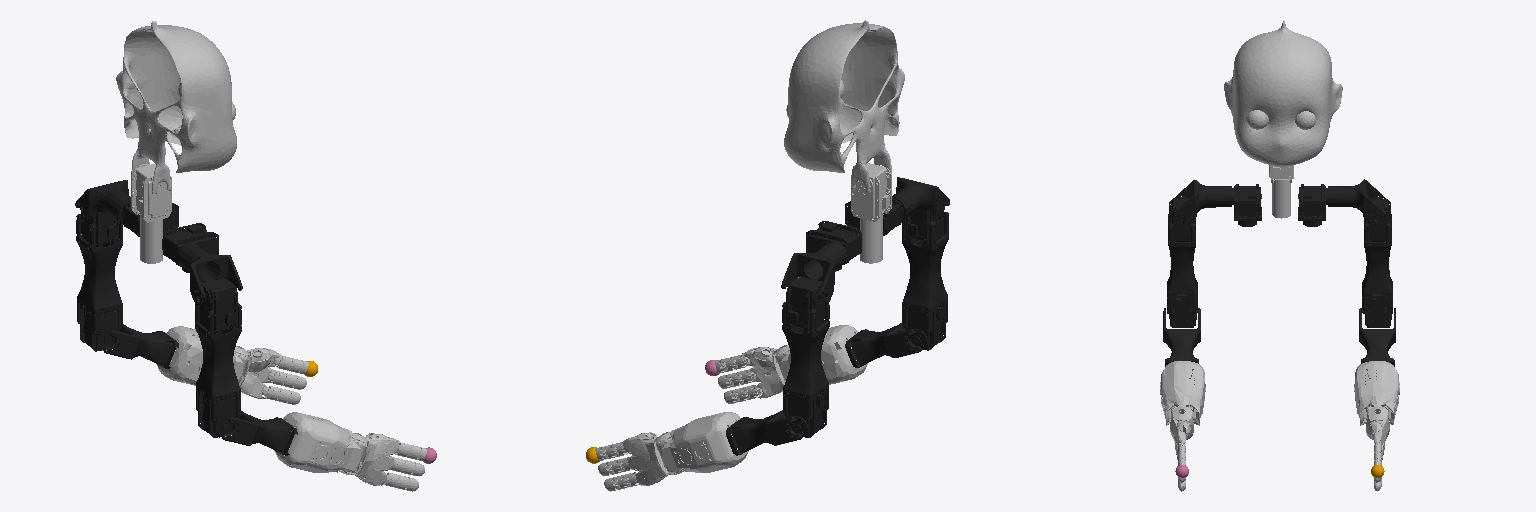
URDF robot description (nico_upper_rh6d):
<?xml version="1.0" ?>
<!-- =================================================================================== -->
<!-- |    This document was manually created   and the meshes resized and repositioned | -->
<!-- |    EDITING THIS FILE BY HAND IS NOT RECOMMENDED                                 | -->
<!-- =================================================================================== -->
<!--
  Copyright (c) 2023, [author]
  All rights reserved.

  This work is licensed under the Creative Commons Attribution-NonCommercial-NoDerivs 3.0 Unported License.
  To view a copy of this license, visit http://creativecommons.org/licenses/by-nc-nd/3.0/ or send a letter to
  Creative Commons, 444 Castro Street, Suite 900, Mountain View, California, 94041, USA.
-->
<robot name="nico_upper_rh6d">
	<link name="world" />
	<link name="torso">
		<visual>
			<geometry>
				<mesh filename="mesh/torso.obj"/>
			</geometry>
			<origin rpy="0 0 0" xyz="0.0 0.0 0.0"/>
			<material name="torso_color">
				<color rgba="0.270588 0.270588 0.270588 1"/>
			</material>
		</visual>
	</link>
	<joint name="world_to_base_link" type="fixed">
    	<parent link="world"/>
    	<child link="torso"/>
  	</joint>
    <link name="neck">
		<visual>
			<geometry>
				<mesh filename="mesh/neck.obj"/>
			</geometry>
			<origin rpy="0 0 0" xyz="0.0 0.0 0.0"/>
			<material name="neck_color">
				<color rgba="0.74902 0.74902 0.74902 1"/>
			</material>
		</visual>
		<collision>
			<geometry>
				<mesh filename="mesh/neck.stl"/>
			</geometry>
			<origin rpy="0 0 0" xyz="0.0 0.0 0.0"/>
		</collision>
		<inertial>
			<mass value="0.090439"/>
			<inertia ixx="0.00006" ixy="-0" ixz="-0" iyy="0.000056" iyz="-0.000001" izz="0.000019"/>
			<origin rpy="0 0 0" xyz="0 0.000266 0.050352"/>
		</inertial>
	</link>
	<joint name="head_z_rjoint" type="revolute">
		<parent link="torso"/>
		<child link="neck"/>
		<origin rpy="0 0 0" xyz="-0.025 0.005 0.23"/>
		<axis xyz="0 0 1"/>
		<limit effort="30" lower="-1.5708" upper="1.5708" velocity="1"/>
	</joint>
	<link name="head">
		<visual>
			<geometry>
				<mesh filename="mesh/head.obj"/>
			</geometry>
			<origin rpy="0 0 0" xyz="0 0 0"/>
			<material name="head_color">
				<color rgba="0.74902 0.74902 0.74902 1"/>
			</material>
		</visual>
		<collision>
			<geometry>
				<mesh filename="mesh/head.stl"/>
			</geometry>
			<origin rpy="0 0 0" xyz="0 0 0"/>
		</collision>
		<inertial>
			<mass value="0.294137"/>
			<inertia ixx="0.001424" ixy="-0" ixz="0.000083" iyy="0.00159" iyz="-0.000002" izz="0.001485"/>
			<origin rpy="0 0 0" xyz="0.01525 -0.023771 0.09423"/>
		</inertial>
	</link>
	<joint name="head_y_rjoint" type="revolute">
		<parent link="neck"/>
		<child link="head"/>
		<origin rpy="0 0 0" xyz="0 0.0 0.105"/>
		<axis xyz="0 1 0"/>
		<limit effort="30" lower="-0.8726" upper="0.4363" velocity="1"/>
	</joint>
	<!-- ====EYES=== -->
	<link name="eyes">

	</link>
	<joint name="eyes_fjoint" type="fixed">
		<parent link="head"/>
		<child link="eyes"/>
		<origin rpy="0 0 0" xyz="0 0.0 0.105"/>
	</joint>
    <!-- ====RIGHT ARM=== -->
	<link name="right_shoulder">
		<visual>
			<geometry>
				<mesh filename="mesh/right_shoulder.obj"/>
			</geometry>
			<origin rpy="0 0 0" xyz="0 0 0"/>
			<material name="right_shoulder_color">
				<color rgba="0.176471 0.176471 0.176471 1"/>
			</material>
		</visual>
		<collision>
			<geometry>
				<mesh filename="mesh/right_shoulder.stl"/>
			</geometry>
			<origin rpy="0 0 0" xyz="0 0 0"/>
		</collision>
		<inertial>
			<mass value="0.084038"/>
			<inertia ixx="0.000026" ixy="-0.000001" ixz="-0.000002" iyy="0.000034" iyz="-0" izz="0.000033"/>
			<origin rpy="0 0 0" xyz="0.005637 0.000876 0.033153"/>
		</inertial>
	</link>
	<joint name="r_shoulder_z_rjoint" type="revolute">
		<parent link="torso"/>
		<child link="right_shoulder"/>
		<origin rpy="0 0 0" xyz="0.005 -0.045 0.23"/>
		<axis xyz="0 0 1"/>
		<limit effort="30" lower="-0.4363" upper="1.3963" velocity="1"/>
	</joint>
	<link name="right_collarbone">
		<visual>
			<geometry>
				<mesh filename="mesh/right_collar.obj"/>
			</geometry>
			<origin rpy="0 0 0" xyz="0 0 0"/>
			<material name="right_collarbone_color">
				<color rgba="0.176471 0.176471 0.176471 1"/>
			</material>
		</visual>
		<collision>
			<geometry>
				<mesh filename="mesh/right_collar.stl"/>
			</geometry>
			<origin rpy="0 0 0" xyz="0 0 0"/>
		</collision>
		<inertial>
			<mass value="0.024811"/>
			<inertia ixx="0.000014" ixy="-0" ixz="0" iyy="0.000011" iyz="-0.000001" izz="0.000019"/>
			<origin rpy="0 0 0" xyz="-0 -0.041345 -0.002364"/>
		</inertial>
	</link>
	<joint name="r_shoulder_y_rjoint" type="revolute">
		<parent link="right_shoulder"/>
		<child link="right_collarbone"/>
		<origin rpy="0 0 0" xyz="-0.021 -0.023 0.033"/>
		<axis xyz="0 -1 0"/>
		<limit effort="30" lower="-0.5236" upper="3.1416" velocity="1"/>
	</joint>
	<link name="right_upper_arm">
		<visual>
			<geometry>
				<mesh filename="mesh/right_upper_arm.obj"/>
			</geometry>
			<origin rpy="0 0 0" xyz="0 0 0"/>
			<material name="right_upper_arm_color">
				<color rgba="0.176471 0.176471 0.176471 1"/>
			</material>
		</visual>
		<collision>
			<geometry>
				<mesh filename="mesh/right_upper_arm.stl"/>
			</geometry>
			<origin rpy="0 0 0" xyz="0 0 0"/>
		</collision>
		<inertial>
			<mass value="0.189729"/>
			<inertia ixx="0.000851" ixy="0" ixz="0" iyy="0.000851" iyz="-0.000005" izz="0.000048"/>
			<origin rpy="0 0 0" xyz="-0.02306 -0.000321 -0.0866"/>
		</inertial>
	</link>
	<joint name="r_upperarm_x_rjoint" type="revolute">
		<parent link="right_collarbone"/>
		<child link="right_upper_arm"/>
		<origin rpy="0 0 0" xyz="0.00 -0.073 -0.023"/>
		<axis xyz="-1 0 0"/>
		<limit effort="30" lower="0" upper="1.2217" velocity="1"/>
	</joint>
	<link name="right_lower_arm">
		<visual>
			<geometry>
				<mesh filename="mesh/right_lower_arm.obj"/>
			</geometry>
			<origin rpy="0 0 0" xyz="0 0 0"/>
			<material name="right_lower_arm_color">
				<color rgba="0.176471 0.176471 0.176471 1"/>
			</material>
		</visual>
		<collision>
			<geometry>
				<mesh filename="mesh/right_lower_arm.stl"/>
			</geometry>
			<origin rpy="0 0 0" xyz="0 0 0"/>
		</collision>
		<inertial>
			<mass value="0.076793"/>
			<inertia ixx="0.000104" ixy="-0" ixz="-0" iyy="0.000095" iyz="-0.000002" izz="0.000021"/>
			<origin rpy="0 0 0" xyz="0 0.022485 -0.081055"/>
		</inertial>
	</link>
	<joint name="r_elbow_y_rjoint" type="revolute">
		<parent link="right_upper_arm"/>
		<child link="right_lower_arm"/>
		<origin rpy="0 3.14 0" xyz="0.0 0 -0.17"/>
		<axis xyz="0 1 0"/>
		<limit effort="30" lower="0.8726" upper="3.1416" velocity="1"/>
	</joint>
	<link name="right_wrist">
		<visual>
			<geometry>
				<mesh filename="mesh/right_wrist.obj"/>
			</geometry>
			<origin rpy="0 0 0" xyz="0 0 0"/>
			<material name="right_wrist_color">
				<color rgba="0.74902 0.74902 0.74902 1"/>
			</material>
		</visual>
		<collision>
			<geometry>
				<mesh filename="mesh/right_wrist.stl"/>
			</geometry>
			<origin rpy="0 0 0" xyz="0 0 0"/>
		</collision>
		<inertial>
			<mass value="0.028397"/>
			<inertia ixx="0.000043" ixy="-0" ixz="0.000004" iyy="0.000058" iyz="-0.000007" izz="0.000029"/>
			<origin rpy="0 0 0" xyz="0.000031 -0.011056 -0.0675"/>
		</inertial>
	</link>
	<joint name="r_wrist_z_rjoint" type="revolute">
		<parent link="right_lower_arm"/>
		<child link="right_wrist"/>
		<origin rpy="0 0 1.57" xyz="0 0 -0.105"/>
		<axis xyz="0 0 1"/>
		<limit effort="30" lower="-1.571" upper="1.571" velocity="1"/>
	</joint>
	<link name="right_palm"> <!--gripper-->
		<visual>
			<geometry>
				<mesh filename="mesh/right_palm.obj"/>
			</geometry>
			<origin rpy="0 0 0" xyz="0 0 0"/>
			<material name="gripper_color">
				<color rgba="0.74902 0.74902 0.74902 1"/>
			</material>
		</visual>
		<collision>
			<geometry>
				<mesh filename="mesh/right_palm.stl"/>
			</geometry>
			<origin rpy="0 0 0" xyz="0 0 0"/>
		</collision>
		<inertial>
			<mass value="0.005332"/>
			<inertia ixx="0.000015" ixy="0.000001" ixz="-0.000004" iyy="0.000017" iyz="0.000004" izz="0.000006"/>
			<origin rpy="0 0 0" xyz="-0.029511 0.002253 -0.023968"/>
		</inertial>
	</link>
	<joint name="r_wrist_x_rjoint" type="revolute">
		<parent link="right_wrist"/>
		<child link="right_palm"/>
		<origin rpy="0 0 0" xyz="0 0 -0.10"/>
		<axis xyz="0 1 0"/>
		<limit effort="30" lower="-.78" upper="0.78" velocity="1"/>
	</joint>
	<!--link name="endeffector"> NOT ALLOWED
    	<visual>
      		<origin rpy="0 0 0" xyz="0 0.0 0.0"/>
      		<geometry>
        		<sphere radius="0.01"/>
      		</geometry>
    	</visual>
  	</link-->
	<!--joint name="endeffector_joint" type="fixed">
    	<parent link="gripper"/>
    	<child link="endeffector"/>
    	<origin rpy="0 0 0" xyz="0.00 -0.02 -0.11"/>
	</joint-->
	<link name="middlefinger">
		<visual>
			<geometry>
				<mesh filename="mesh/finger.obj"/>
			</geometry>
			<origin rpy="0 0 0" xyz="0 0 0"/>
			<material name="finger_color">
				<color rgba="0.74902 0.74902 0.74902 1"/>
			</material>
		</visual>
		<collision>
			<geometry>
				<mesh filename="mesh/finger.stl"/>
			</geometry>
			<origin rpy="0 0 0" xyz="0 0 0"/>
		</collision>
		<inertial>
			<mass value="0.000009"/>
			<inertia ixx="0" ixy="0" ixz="-0" iyy="0" iyz="0" izz="0"/>
			<origin rpy="0 0 0" xyz="0.005409 0.000556 -0.005751"/>
		</inertial>
	</link>
	<link name="littlefinger">
		<visual>
			<geometry>
				<mesh filename="mesh/finger.obj"/>
			</geometry>
			<origin rpy="0 0 0" xyz="0 0 0"/>
			<material name="finger_color">
				<color rgba="0.74902 0.74902 0.74902 1"/>
			</material>
		</visual>
		<collision>
			<geometry>
				<mesh filename="mesh/finger.stl"/>
			</geometry>
			<origin rpy="0 0 0" xyz="0 0 0"/>
		</collision>
		<inertial>
			<mass value="0.000009"/>
			<inertia ixx="0" ixy="0" ixz="-0" iyy="0" iyz="0" izz="0"/>
			<origin rpy="0 0 0" xyz="0.005409 0.000556 -0.005751"/>
		</inertial>
	</link>
	<link name="gripper"> <!--indexfinder-->
		<visual>
			<geometry>
				<mesh filename="mesh/finger.obj"/>
			</geometry>
			<origin rpy="0 0 0" xyz="0 0 0"/>
			<material name="finger_color">
				<color rgba="0.74902 0.74902 0.74902 1"/>
			</material>
		</visual>
		<collision>
			<geometry>
				<mesh filename="mesh/finger.stl"/>
			</geometry>
			<origin rpy="0 0 0" xyz="0 0 0"/>
		</collision>
		<inertial>
			<mass value="0.000009"/>
			<inertia ixx="0" ixy="0" ixz="-0" iyy="0" iyz="0" izz="0"/>
			<origin rpy="0 0 0" xyz="0.005409 0.000556 -0.005751"/>
		</inertial>
	</link>
	<joint name="middlefinger_rjoint" type="revolute"> <!--joint for middlefinger-->
		<parent link="right_palm"/>
		<child link="middlefinger"/>
		<origin rpy="0 0 0" xyz="0 0 -0.06"/>
		<axis xyz="0 1 0"/>
		<limit effort="30" lower="-2.57" upper="0" velocity="1"/>
	</joint>
	<joint name="littlefinger_rjoint" type="revolute"> <!--joint for littlefinger-->
		<parent link="right_palm"/>
		<child link="littlefinger"/>
		<origin rpy="0 0 0" xyz="0.00 0.02 -0.06"/>
		<axis xyz="0 1 0"/>
		<limit effort="30" lower="-2.57" upper="0" velocity="1"/>
	</joint>
	<joint name="gripper_rjoint" type="revolute">
		<parent link="right_palm"/>
		<child link="gripper"/>
		<origin rpy="0 0 0" xyz="0.00 -0.02 -0.06"/>
		<axis xyz="0 1 0"/>
		<limit effort="30" lower="-2.57" upper="0" velocity="1"/>
	</joint>
	<link name="endeffector">
    	<visual>
      		<origin rpy="0 0 0" xyz="0 0.0 0.0"/>
      		<geometry>
        		<sphere radius="0.01"/>
      		</geometry>
    	</visual>
		<inertial>
			<mass value="0.000009"/>
			<inertia ixx="0" ixy="0" ixz="-0" iyy="0" iyz="0" izz="0"/>
			<origin rpy="0 0 0" xyz="0.005409 0.000556 -0.005751"/>
		</inertial>
  	</link>
	<joint name="endeffector_joint" type="fixed">
    	<parent link="gripper"/>
    	<child link="endeffector"/>
    	<origin rpy="0 0 0" xyz="0.00 -0.0 -0.05"/>
		<!--
		<axis xyz="0 1 0"/>
		<limit effort="30" lower="-2.57" upper="0" velocity="1"/>
		-->
	</joint>
    <!-- ====LEFT ARM=== -->
    <link name="left_shoulder">	
		<visual>
			<geometry>
				<mesh filename="mesh/left_shoulder.obj"/>
			</geometry>
			<origin rpy="0 0 0" xyz="0 0 0"/>
			<material name="left_shoulder_color">
				<color rgba="0.176471 0.176471 0.176471 1"/>
			</material>
		</visual>
		<collision>
			<geometry>
				<mesh filename="mesh/left_shoulder.stl"/>
			</geometry>
			<origin rpy="0 0 0" xyz="0 0 0"/>
		</collision>
		<inertial>
			<mass value="0.084038"/>
			<inertia ixx="0.000026" ixy="-0.000001" ixz="-0.000002" iyy="0.000034" iyz="-0" izz="0.000033"/>
			<origin rpy="0 0 0" xyz="0.005637 0.000876 0.033153"/>
		</inertial>
	</link>
	<joint name="l_shoulder_z_rjoint" type="revolute">
		<parent link="torso"/>
		<child link="left_shoulder"/>
		<origin rpy="0 0 0" xyz="0.005 0.05 0.23"/>
		<axis xyz="0 0 1"/>
		<limit effort="30" lower="-1.3963" upper="0.4363" velocity="1"/>
	</joint>
	<link name="left_collarbone">
		<visual>
			<geometry>
				<mesh filename="mesh/left_collar.obj"/>
			</geometry>
			<origin rpy="0 0 0" xyz="0 0 0"/>
			<material name="right_collarbone_color">
				<color rgba="0.176471 0.176471 0.176471 1"/>
			</material>
		</visual>
		<collision>
			<geometry>
				<mesh filename="mesh/left_collar.stl"/>
			</geometry>
			<origin rpy="0 0 0" xyz="0 0 0"/>
		</collision>
		<inertial>
			<mass value="0.024811"/>
			<inertia ixx="0.000014" ixy="-0" ixz="0" iyy="0.000011" iyz="-0.000001" izz="0.000019"/>
			<origin rpy="0 0 0" xyz="-0 -0.041345 -0.002364"/>
		</inertial>
	</link>
	<joint name="l_shoulder_y_rjoint" type="revolute">
		<parent link="left_shoulder"/>
		<child link="left_collarbone"/>
		<origin rpy="0 0 0" xyz="-0.021 0.023 0.033"/>
		<axis xyz="0 -1 0"/>
		<limit effort="30" lower="-0.5236" upper="3.1416" velocity="1"/>
	</joint>
	<link name="left_upper_arm">
		<visual>
			<geometry>
				<mesh filename="mesh/right_upper_arm.obj"/>
			</geometry>
			<origin rpy="0 0 0" xyz="0 0 0"/>
			<material name="right_upper_arm_color">
				<color rgba="0.176471 0.176471 0.176471 1"/>
			</material>
		</visual>
		<collision>
			<geometry>
				<mesh filename="mesh/right_upper_arm.stl"/>
			</geometry>
			<origin rpy="0 0 0" xyz="0 0 0"/>
		</collision>
		<inertial>
			<mass value="0.189729"/>
			<inertia ixx="0.000851" ixy="0" ixz="0" iyy="0.000851" iyz="-0.000005" izz="0.000048"/>
			<origin rpy="0 0 0" xyz="-0.02306 -0.000321 -0.0866"/>
		</inertial>
	</link>
	<joint name="l_upperarm_x_rjoint" type="revolute">
		<parent link="left_collarbone"/>
		<child link="left_upper_arm"/>
		<origin rpy="0 0 0" xyz="0.00 0.073 -0.023"/>
		<axis xyz="1 0 0"/>
		<limit effort="30" lower="0" upper="1.2217" velocity="1"/>
	</joint>
	<link name="left_lower_arm">
		<visual>
			<geometry>
				<mesh filename="mesh/right_lower_arm.obj"/>
			</geometry>
			<origin rpy="0 0 0" xyz="0 0 0"/>
			<material name="right_lower_arm_color">
				<color rgba="0.176471 0.176471 0.176471 1"/>
			</material>
		</visual>
		<collision>
			<geometry>
				<mesh filename="mesh/right_lower_arm.stl"/>
			</geometry>
			<origin rpy="0 0 0" xyz="0 0 0"/>
		</collision>
		<inertial>
			<mass value="0.076793"/>
			<inertia ixx="0.000104" ixy="-0" ixz="-0" iyy="0.000095" iyz="-0.000002" izz="0.000021"/>
			<origin rpy="0 0 0" xyz="0 0.022485 -0.081055"/>
		</inertial>
	</link>
	<joint name="l_elbow_y_rjoint" type="revolute">
		<parent link="left_upper_arm"/>
		<child link="left_lower_arm"/>
		<origin rpy="0 3.14 0" xyz="0.0 0 -0.17"/>
		<axis xyz="0 1 0"/>
		<limit effort="30" lower="0.8726" upper="3.1416" velocity="1"/>
	</joint>
	<link name="left_wrist">
		<visual>
			<geometry>
				<mesh filename="mesh/left_wrist.obj"/>
			</geometry>
			<origin rpy="0 0 0" xyz="0 0 0"/>
			<material name="right_wrist_color">
				<color rgba="0.74902 0.74902 0.74902 1"/>
			</material>
		</visual>
		<collision>
			<geometry>
				<mesh filename="mesh/left_wrist.stl"/>
			</geometry>
			<origin rpy="0 0 0" xyz="0 0 0"/>
		</collision>
		<inertial>
			<mass value="0.028397"/>
			<inertia ixx="0.000043" ixy="-0" ixz="0.000004" iyy="0.000058" iyz="-0.000007" izz="0.000029"/>
			<origin rpy="0 0 0" xyz="0.000031 -0.011056 -0.0675"/>
		</inertial>
	</link>
	<joint name="l_wrist_z_rjoint" type="revolute">
		<parent link="left_lower_arm"/>
		<child link="left_wrist"/>
		<origin rpy="0 0 1.57" xyz="0 0 -0.105"/>
		<axis xyz="0 0 1"/>
		<limit effort="30" lower="-1.571" upper="1.571" velocity="1"/>
	</joint>
	<link name="left_palm"> <!--gripper-->
		<visual>
			<geometry>
				<mesh filename="mesh/left_palm.obj"/>
			</geometry>
			<origin rpy="0 0 0" xyz="0 0 0"/>
			<material name="gripper_color">
				<color rgba="0.74902 0.74902 0.74902 1"/>
			</material>
		</visual>
		<collision>
			<geometry>
				<mesh filename="mesh/left_palm.stl"/>
			</geometry>
			<origin rpy="0 0 0" xyz="0 0 0"/>
		</collision>
		<inertial>
			<mass value="0.005332"/>
			<inertia ixx="0.000015" ixy="0.000001" ixz="-0.000004" iyy="0.000017" iyz="0.000004" izz="0.000006"/>
			<origin rpy="0 0 0" xyz="-0.029511 0.002253 -0.023968"/>
		</inertial>
	</link>
	<joint name="l_wrist_x_rjoint" type="revolute">
		<parent link="left_wrist"/>
		<child link="left_palm"/>
		<origin rpy="0 0 0" xyz="0 0 -0.10"/>
		<axis xyz="0 1 0"/>
		<limit effort="30" lower="-.78" upper="0.78" velocity="1"/>
	</joint>
    <!--link name="endeffector">
    	<visual>
      		<origin rpy="0 0 0" xyz="0 0.0 0.0"/>
      		<geometry>
        		<sphere radius="0.01"/>
      		</geometry>
    	</visual>
  	</link-->
	<!--joint name="endeffector_joint" type="fixed">
    	<parent link="gripper"/>
    	<child link="endeffector"/>
    	<origin rpy="0 0 0" xyz="0.00 -0.02 -0.11"/>
	</joint-->
	<link name="middlefingel">
		<visual>
			<geometry>
				<mesh filename="mesh/finger.obj"/>
			</geometry>
			<origin rpy="0 0 0" xyz="0 0 0"/>
			<material name="finger_color">
				<color rgba="0.74902 0.74902 0.74902 1"/>
			</material>
		</visual>
		<collision>
			<geometry>
				<mesh filename="mesh/finger.stl"/>
			</geometry>
			<origin rpy="0 0 0" xyz="0 0 0"/>
		</collision>
		<inertial>
			<mass value="0.000009"/>
			<inertia ixx="0" ixy="0" ixz="-0" iyy="0" iyz="0" izz="0"/>
			<origin rpy="0 0 0" xyz="0.005409 0.000556 -0.005751"/>
		</inertial>
	</link>
	<link name="littlefingel">
		<visual>
			<geometry>
				<mesh filename="mesh/finger.obj"/>
			</geometry>
			<origin rpy="0 0 0" xyz="0 0 0"/>
			<material name="finger_color">
				<color rgba="0.74902 0.74902 0.74902 1"/>
			</material>
		</visual>
		<collision>
			<geometry>
				<mesh filename="mesh/finger.stl"/>
			</geometry>
			<origin rpy="0 0 0" xyz="0 0 0"/>
		</collision>
		<inertial>
			<mass value="0.000009"/>
			<inertia ixx="0" ixy="0" ixz="-0" iyy="0" iyz="0" izz="0"/>
			<origin rpy="0 0 0" xyz="0.005409 0.000556 -0.005751"/>
		</inertial>
	</link>
	<link name="grippel"> <!--indexfinder-->
		<visual>
			<geometry>
				<mesh filename="mesh/finger.obj"/>
			</geometry>
			<origin rpy="0 0 0" xyz="0 0 0"/>
			<material name="finger_color">
				<color rgba="0.74902 0.74902 0.74902 1"/>
			</material>
		</visual>
		<collision>
			<geometry>
				<mesh filename="mesh/finger.stl"/>
			</geometry>
			<origin rpy="0 0 0" xyz="0 0 0"/>
		</collision>
		<inertial>
			<mass value="0.000009"/>
			<inertia ixx="0" ixy="0" ixz="-0" iyy="0" iyz="0" izz="0"/>
			<origin rpy="0 0 0" xyz="0.005409 0.000556 -0.005751"/>
		</inertial>
	</link>
	<joint name="middlefingel_rjoint" type="revolute">
		<parent link="left_palm"/>
		<child link="middlefingel"/>
		<origin rpy="0 0 0" xyz="0 0 -0.06"/>
		<axis xyz="0 1 0"/>
		<limit effort="30" lower="0" upper="2.57" velocity="1"/>
	</joint>
	<joint name="littlefingel_rjoint" type="revolute">
		<parent link="left_palm"/>
		<child link="littlefingel"/>
		<origin rpy="0 0 0" xyz="0.00 0.02 -0.06"/>
		<axis xyz="0 1 0"/>
		<limit effort="30" lower="0" upper="2.57" velocity="1"/>
	</joint>
	<joint name="grippel_rjoint" type="revolute">
		<parent link="left_palm"/>
		<child link="grippel"/>
		<origin rpy="0 0 0" xyz="0.00 -0.02 -0.06"/>
		<axis xyz="0 1 0"/>
		<limit effort="30" lower="0" upper="2.57" velocity="1"/>
	</joint>
	<link name="endeffectol">
    	<visual>
      		<origin rpy="0 0 0" xyz="0 0.0 0.0"/>
      		<geometry>
        		<sphere radius="0.01"/>
      		</geometry>
    	</visual>
  	</link>
	<joint name="endeffectol_joint" type="fixed">
    	<parent link="grippel"/>
    	<child link="endeffectol"/>
    	<origin rpy="0 0 0" xyz="0.00 -0.0 -0.05"/>
	</joint>
</robot>

--- Render facts (derived) ---
3 views of the same robot in one strip: view 1: azimuth 30°, elevation 25°; view 2: azimuth 150°, elevation 25°; view 3: azimuth 270°, elevation 25° (orthographic).
Robot: nico_upper_rh6d — 25 links, 24 joints (20 revolute, 4 fixed); root link world; default pose: joints at zero except 2 at the middle of their limits (r_elbow_y_rjoint = 2.01, l_elbow_y_rjoint = 2.01).
Visible links, largest first — view 1: head, right_upper_arm, left_upper_arm, right_wrist, neck, left_wrist, right_collarbone, left_lower_arm, right_lower_arm, right_palm, left_collarbone, left_palm (+2 smaller); view 2: head, left_upper_arm, right_upper_arm, left_wrist, neck, left_lower_arm, right_lower_arm, left_collarbone, right_wrist, left_palm, right_collarbone, right_palm (+2 smaller); view 3: head, right_upper_arm, left_upper_arm, right_wrist, left_wrist, right_collarbone, left_collarbone, right_lower_arm, left_lower_arm, right_shoulder, left_shoulder, neck (+2 smaller).
Boxes of the visible links, left/top/right/bottom form: head: left=116, top=21, right=236, bottom=193; right_upper_arm: left=195, top=278, right=241, bottom=437; left_upper_arm: left=76, top=209, right=122, bottom=351; right_wrist: left=274, top=412, right=366, bottom=472; neck: left=131, top=164, right=171, bottom=263; left_wrist: left=157, top=326, right=248, bottom=385; right_collarbone: left=177, top=243, right=242, bottom=305; left_lower_arm: left=103, top=323, right=178, bottom=368; right_lower_arm: left=222, top=411, right=297, bottom=455; right_palm: left=338, top=433, right=399, bottom=485; left_collarbone: left=75, top=180, right=130, bottom=222; left_palm: left=234, top=346, right=282, bottom=398; head: left=784, top=20, right=904, bottom=193; left_upper_arm: left=782, top=276, right=829, bottom=437; right_upper_arm: left=902, top=208, right=948, bottom=350; left_wrist: left=656, top=412, right=748, bottom=472; neck: left=851, top=163, right=891, bottom=263; left_lower_arm: left=726, top=410, right=801, bottom=455; right_lower_arm: left=845, top=323, right=921, bottom=367; left_collarbone: left=781, top=241, right=846, bottom=303; right_wrist: left=775, top=325, right=867, bottom=384; left_palm: left=622, top=432, right=684, bottom=485; right_collarbone: left=892, top=177, right=949, bottom=219; right_palm: left=741, top=345, right=789, bottom=398; head: left=1224, top=21, right=1342, bottom=166; right_upper_arm: left=1167, top=197, right=1197, bottom=327; left_upper_arm: left=1362, top=197, right=1392, bottom=327; right_wrist: left=1160, top=361, right=1205, bottom=425; left_wrist: left=1354, top=361, right=1399, bottom=425; right_collarbone: left=1174, top=180, right=1231, bottom=225; left_collarbone: left=1328, top=179, right=1385, bottom=225; right_lower_arm: left=1163, top=308, right=1200, bottom=366; left_lower_arm: left=1359, top=308, right=1395, bottom=366; right_shoulder: left=1232, top=184, right=1261, bottom=226; left_shoulder: left=1298, top=184, right=1327, bottom=226; neck: left=1269, top=165, right=1293, bottom=218.
Bounding box of the posed robot: 0.3331 × 0.3512 × 0.6327 m (x, y, z).
20 mesh visuals loaded from 14 distinct referenced files (13 OBJ); not drawn: 1 (reference not matched to a file when rendering).
